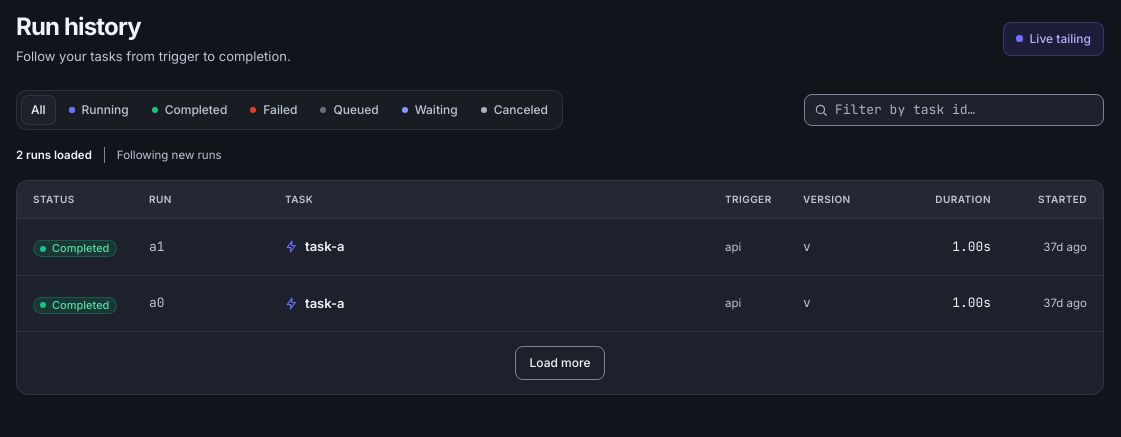
Test: RunsList loaded history › preserves loaded rows after a pagination failure and retries the same cursor
The image size is (1121, 437).
Expected: the text "2 runs loaded" is shown, [16,146,92,163]
Click the button "Load more".
click(560, 363)  # box [514,346,606,380]
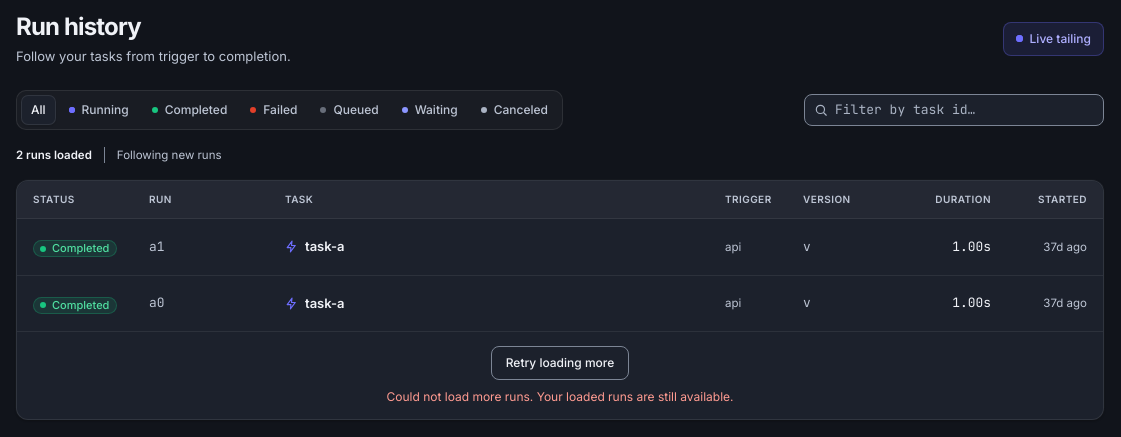
Expected: the text "a1" is shown, [149,238,164,256]
Now the message "Could not load more runs. Your loaded runs are still available." is shown, box [386,389,734,404]
Click the button "Retry loading more".
click(560, 363)  # box [491,346,629,380]
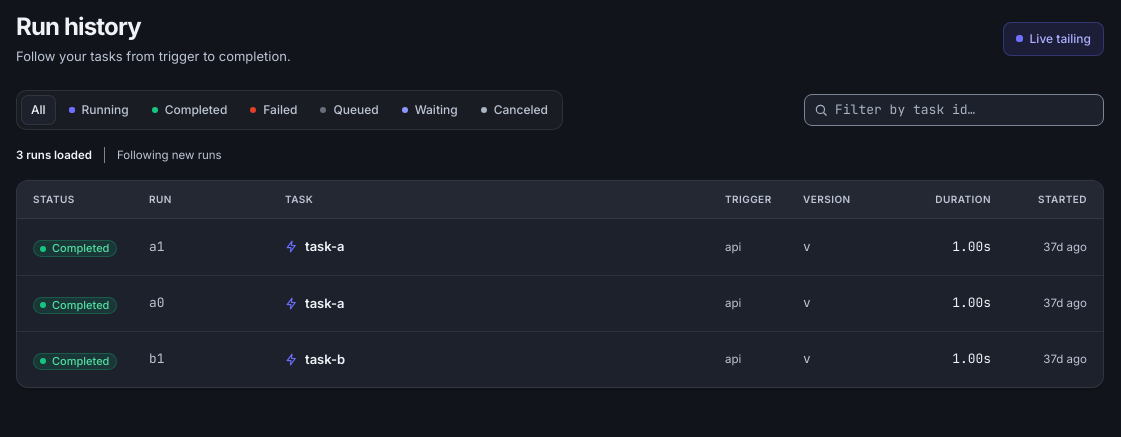
Now the text "3 runs loaded" is shown, box [16,146,92,163]
Now the text "b1" is shown, box [149,350,164,369]
Now the message "Could not load more runs. Your loaded runs are still available." is gone
